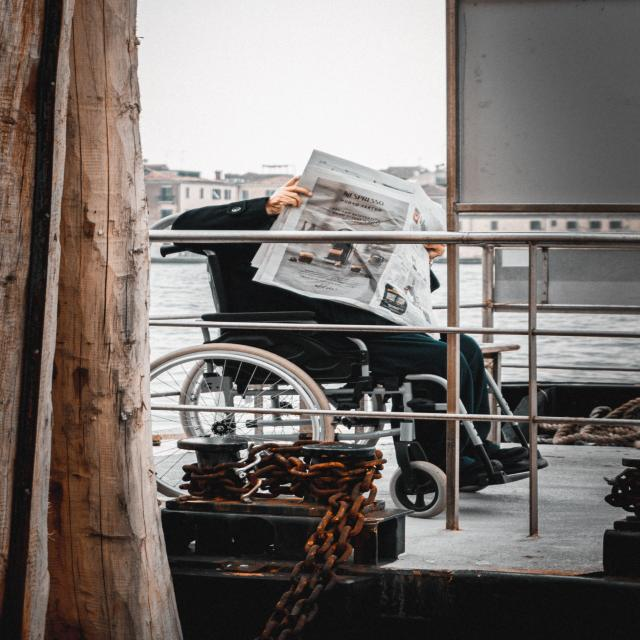wheelchairs: (150, 234, 545, 509)
